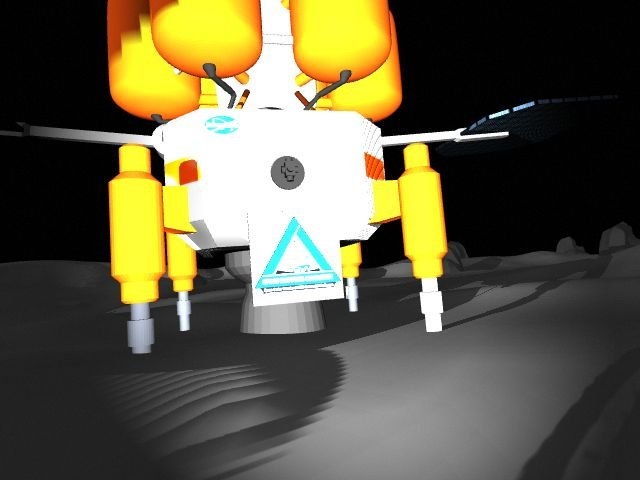basemarker: (255, 217, 342, 294)
